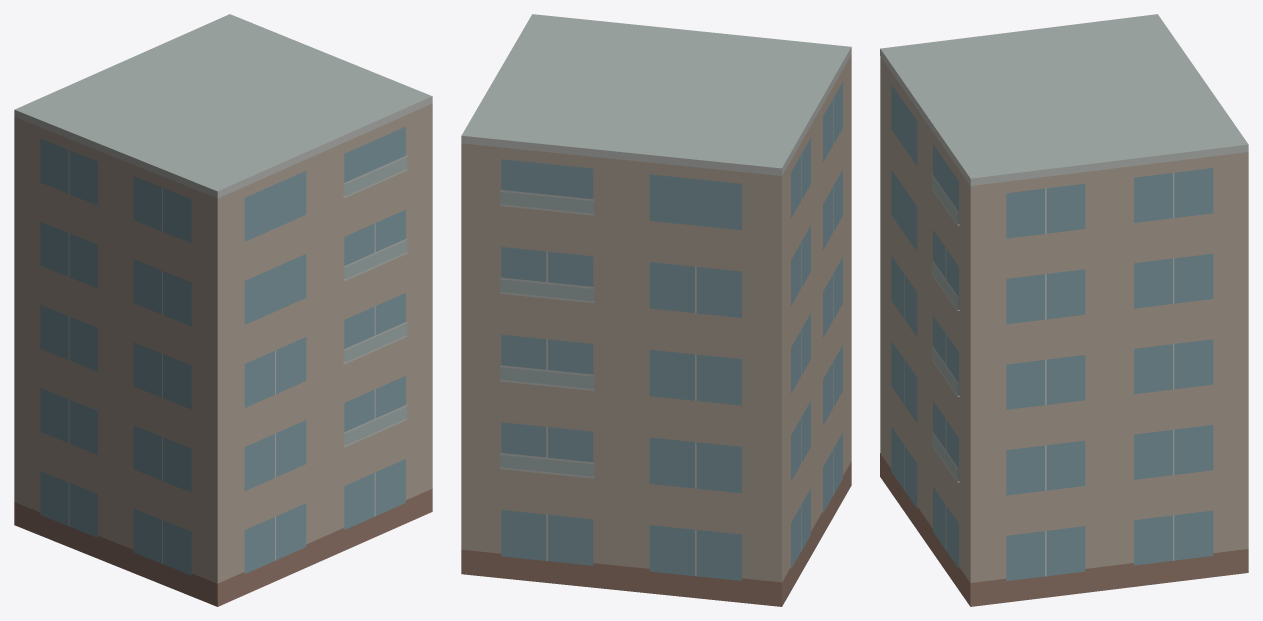
The model's file is survey-upis-32601473.glb.
The picture shows the model from 3 angles, left to right: view 1: azimuth 30°, elevation 25°; view 2: azimuth 150°, elevation 25°; view 3: azimuth 270°, elevation 25°; orthographic projection. The views are drawn at different scales.
Parts seen in each view (by area): view 1: survey-upis-32601473.tmp; view 2: survey-upis-32601473.tmp; view 3: survey-upis-32601473.tmp.
Part boxes in pixels (x1,y1,x2,y2): survey-upis-32601473.tmp: [14, 14, 432, 606]; survey-upis-32601473.tmp: [461, 14, 851, 606]; survey-upis-32601473.tmp: [880, 14, 1248, 606].
Bounding box in the file's own units: 11.63 × 14.1 × 11.
